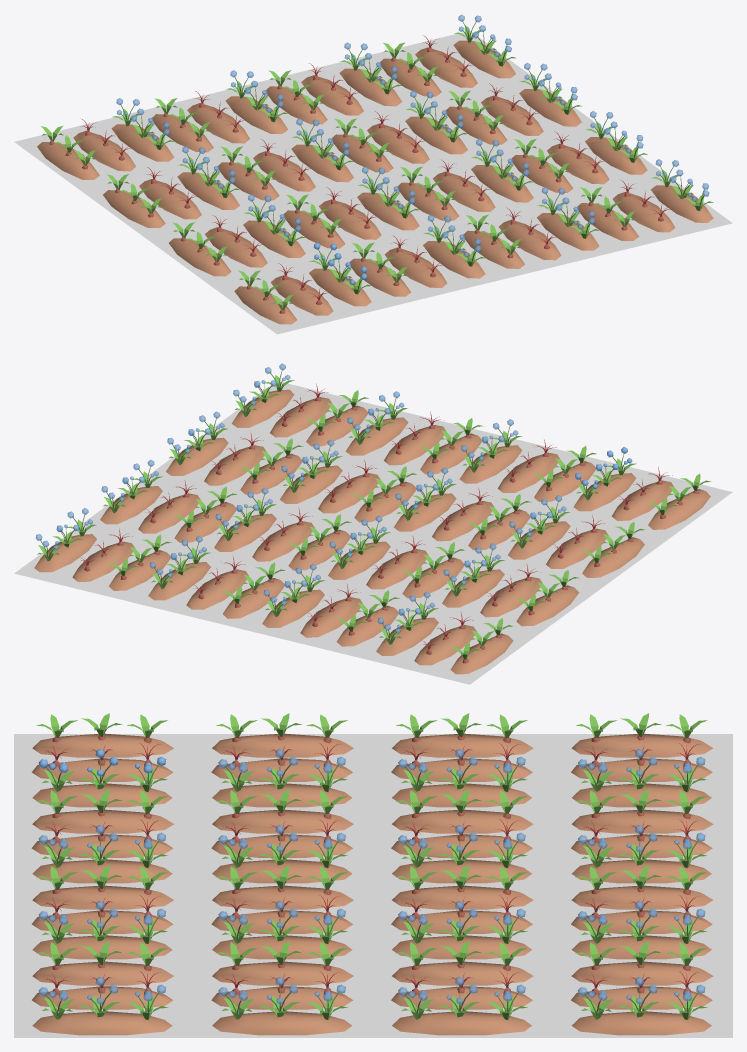
Rendered from Huerta.fbx.
The picture shows the model from 3 angles, top to bottom: view 1: azimuth 30°, elevation 25°; view 2: azimuth 150°, elevation 25°; view 3: azimuth 270°, elevation 25°; orthographic projection. The views are drawn at different scales.
Visible parts, largest first — view 1: Grouping Plane, Grouping Plane|GeoSphere023|Dupli|8, Grouping Plane|GeoSphere023|Dupli|3, Grouping Plane|GeoSphere023|Dupli|15, Grouping Plane|GeoSphere023|Dupli|13, Grouping Plane|GeoSphere023|Dupli|7, Grouping Plane|GeoSphere023|Dupli|14, Grouping Plane|GeoSphere023|Dupli|12, Grouping Plane|GeoSphere023|Dupli|4, Grouping Plane|GeoSphere023|Dupli|9, Grouping Plane|GeoSphere023|Dupli|11, Grouping Plane|GeoSphere023|Dupli|2 (+37 smaller); view 2: Grouping Plane, Grouping Plane|GeoSphere023|Dupli|7, GeoSphere023, Grouping Plane|GeoSphere023|Dupli|6, Grouping Plane|GeoSphere023|Dupli|12, Grouping Plane|GeoSphere023|Dupli|9, Grouping Plane|GeoSphere023|Dupli|15, Grouping Plane|GeoSphere023|Dupli|2, Grouping Plane|GeoSphere023|Dupli|5, Grouping Plane|GeoSphere023|Dupli|13, Grouping Plane|GeoSphere023|Dupli|14, Grouping Plane|GeoSphere023|Dupli|10 (+37 smaller); view 3: Grouping Plane, Grouping Plane|GeoSphere024|Dupli|7, Grouping Plane|GeoSphere024|Dupli|11, Grouping Plane|GeoSphere024|Dupli|15, Grouping Plane|GeoSphere024|Dupli|3, Grouping Plane|GeoSphere022|Dupli|8, Grouping Plane|GeoSphere022|Dupli|6, Grouping Plane|GeoSphere022|Dupli|7, Grouping Plane|GeoSphere022|Dupli|9, Grouping Plane|GeoSphere022|Dupli|15, Grouping Plane|GeoSphere022|Dupli|3, Grouping Plane|GeoSphere022|Dupli|10 (+37 smaller).
Boxes of the visible parts, <box> form: Grouping Plane: <box>14,31,732,334</box>; Grouping Plane|GeoSphere023|Dupli|8: <box>139,179,201,219</box>; Grouping Plane|GeoSphere023|Dupli|3: <box>613,192,675,232</box>; Grouping Plane|GeoSphere023|Dupli|15: <box>415,47,477,87</box>; Grouping Plane|GeoSphere023|Dupli|13: <box>187,103,249,143</box>; Grouping Plane|GeoSphere023|Dupli|7: <box>547,143,609,184</box>; Grouping Plane|GeoSphere023|Dupli|14: <box>301,75,363,115</box>; Grouping Plane|GeoSphere023|Dupli|12: <box>73,131,135,171</box>; Grouping Plane|GeoSphere023|Dupli|4: <box>205,227,267,267</box>; Grouping Plane|GeoSphere023|Dupli|9: <box>253,151,315,191</box>; Grouping Plane|GeoSphere023|Dupli|11: <box>481,95,543,135</box>; Grouping Plane|GeoSphere023|Dupli|2: <box>498,219,561,260</box>; Grouping Plane: <box>14,382,732,684</box>; Grouping Plane|GeoSphere023|Dupli|7: <box>204,445,266,485</box>; GeoSphere023: <box>611,480,673,520</box>; Grouping Plane|GeoSphere023|Dupli|6: <box>318,473,380,513</box>; Grouping Plane|GeoSphere023|Dupli|12: <box>414,625,476,665</box>; Grouping Plane|GeoSphere023|Dupli|9: <box>366,549,428,589</box>; Grouping Plane|GeoSphere023|Dupli|15: <box>72,541,134,581</box>; Grouping Plane|GeoSphere023|Dupli|2: <box>384,425,446,465</box>; Grouping Plane|GeoSphere023|Dupli|5: <box>432,501,494,541</box>; Grouping Plane|GeoSphere023|Dupli|13: <box>300,597,362,637</box>; Grouping Plane|GeoSphere023|Dupli|14: <box>186,569,248,609</box>; Grouping Plane|GeoSphere023|Dupli|10: <box>252,521,314,561</box>; Grouping Plane: <box>14,734,732,1037</box>; Grouping Plane|GeoSphere024|Dupli|7: <box>212,1011,352,1035</box>; Grouping Plane|GeoSphere024|Dupli|11: <box>392,1011,531,1035</box>; Grouping Plane|GeoSphere024|Dupli|15: <box>571,1011,711,1035</box>; Grouping Plane|GeoSphere024|Dupli|3: <box>32,1011,172,1035</box>; Grouping Plane|GeoSphere022|Dupli|8: <box>392,733,533,757</box>; Grouping Plane|GeoSphere022|Dupli|6: <box>212,885,353,909</box>; Grouping Plane|GeoSphere022|Dupli|7: <box>212,961,353,985</box>; Grouping Plane|GeoSphere022|Dupli|9: <box>392,809,533,833</box>; Grouping Plane|GeoSphere022|Dupli|15: <box>571,961,713,985</box>; Grouping Plane|GeoSphere022|Dupli|3: <box>32,961,173,985</box>; Grouping Plane|GeoSphere022|Dupli|10: <box>392,885,533,909</box>.
Bounding box in the file's own units: 966 × 62.55 × 966.
